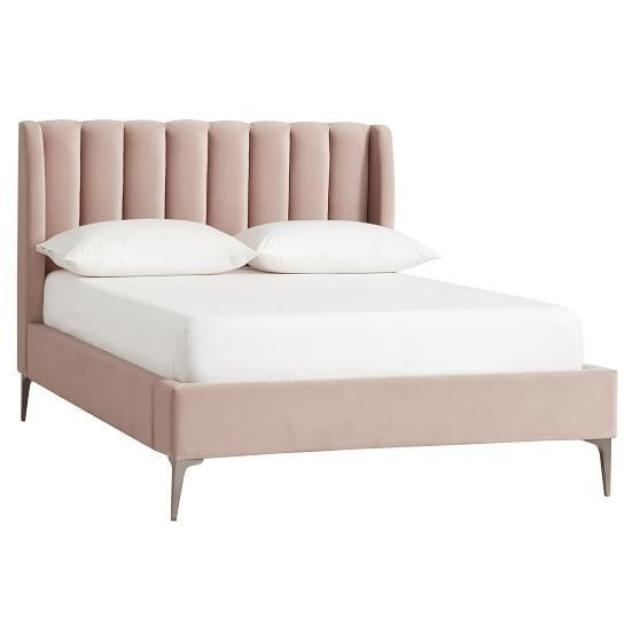obstacle: (15, 117, 618, 521)
